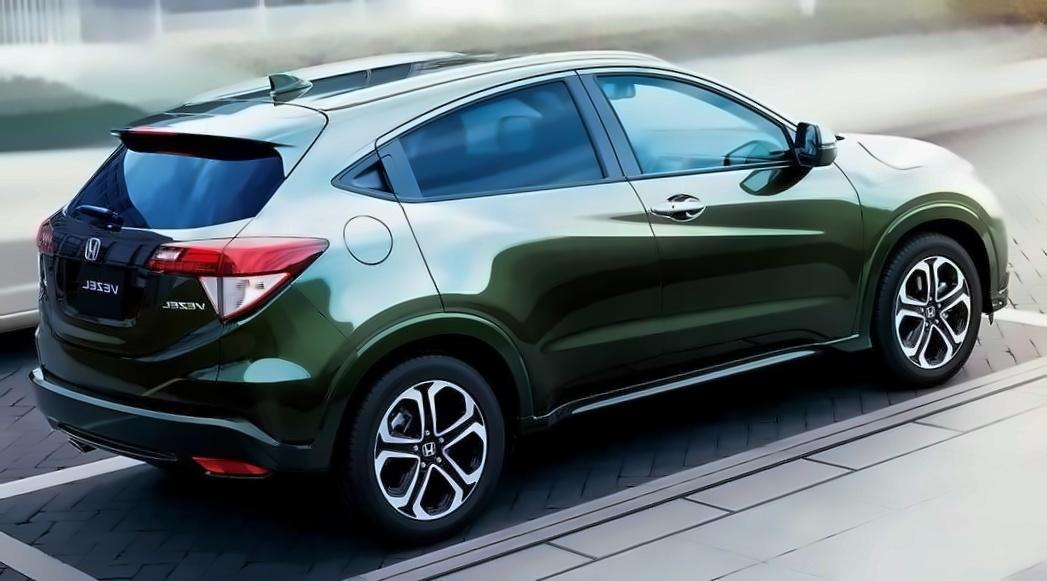Car boot: (32, 95, 337, 406)
Car hood: (843, 122, 965, 171)
Driver-s door - -F-R-: (583, 61, 864, 418)
Fender - -F-R-: (834, 139, 990, 342)
Fender - -R-R-: (289, 184, 452, 373)
Front bumper: (974, 209, 1021, 320)
Passenger-s door - -R-R-: (374, 62, 660, 419)
Rear bumper: (20, 282, 363, 482)
Rear light - -L-: (32, 202, 74, 267)
Rear light - -R-: (138, 230, 343, 334)
Side bumper - -R-: (513, 326, 882, 446)
Side mirror - -R-: (776, 110, 851, 175)
